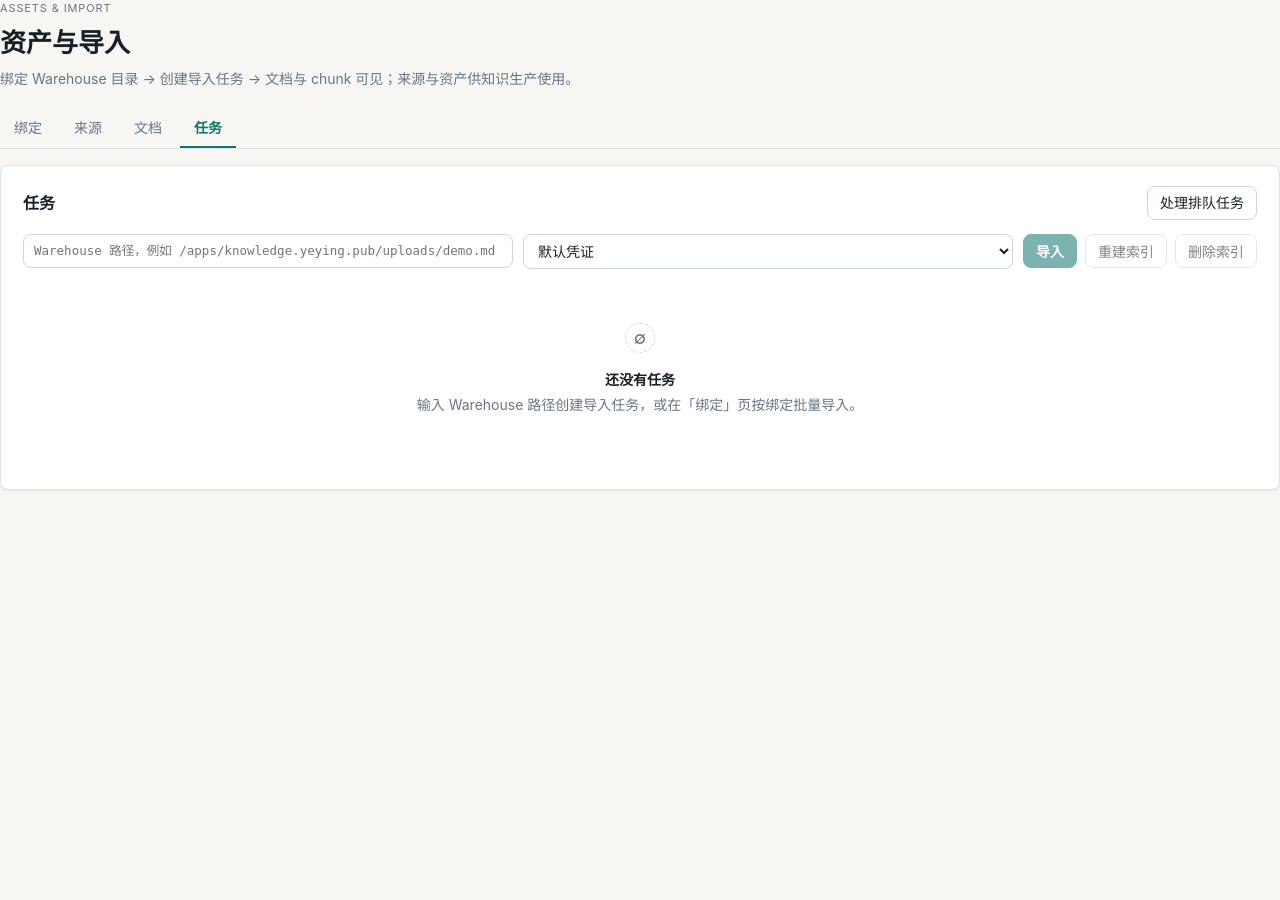
Test: assets workbench › creates an import task from a source path with the chosen credential
Type "/apps/x/uploads/demo.md" into the field named "源路径". click: (268, 251)
box: [23, 234, 513, 268]
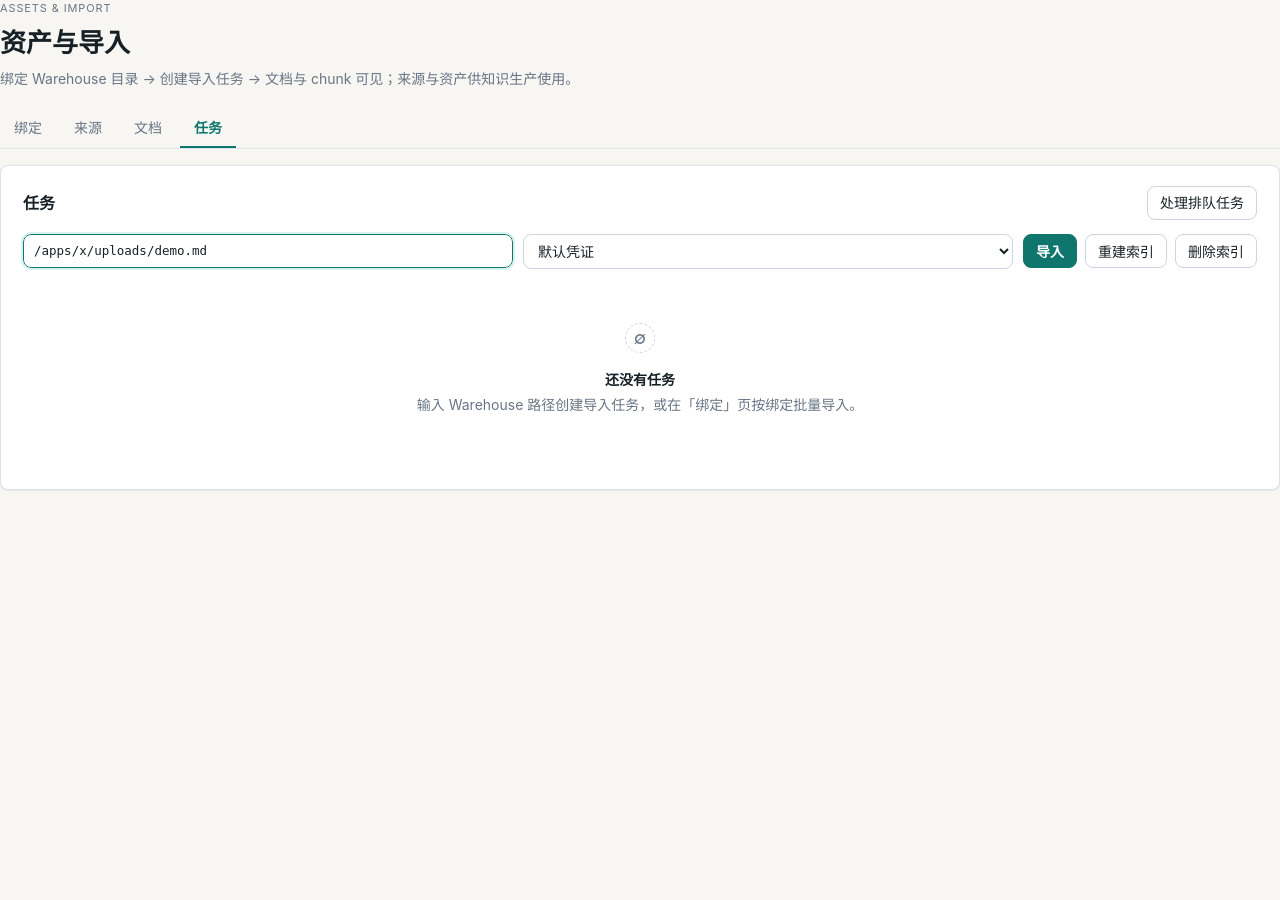
Select "读凭证 · AKREAD" in the dropdown named "凭证". click: (768, 251)
box: [523, 234, 1013, 268]
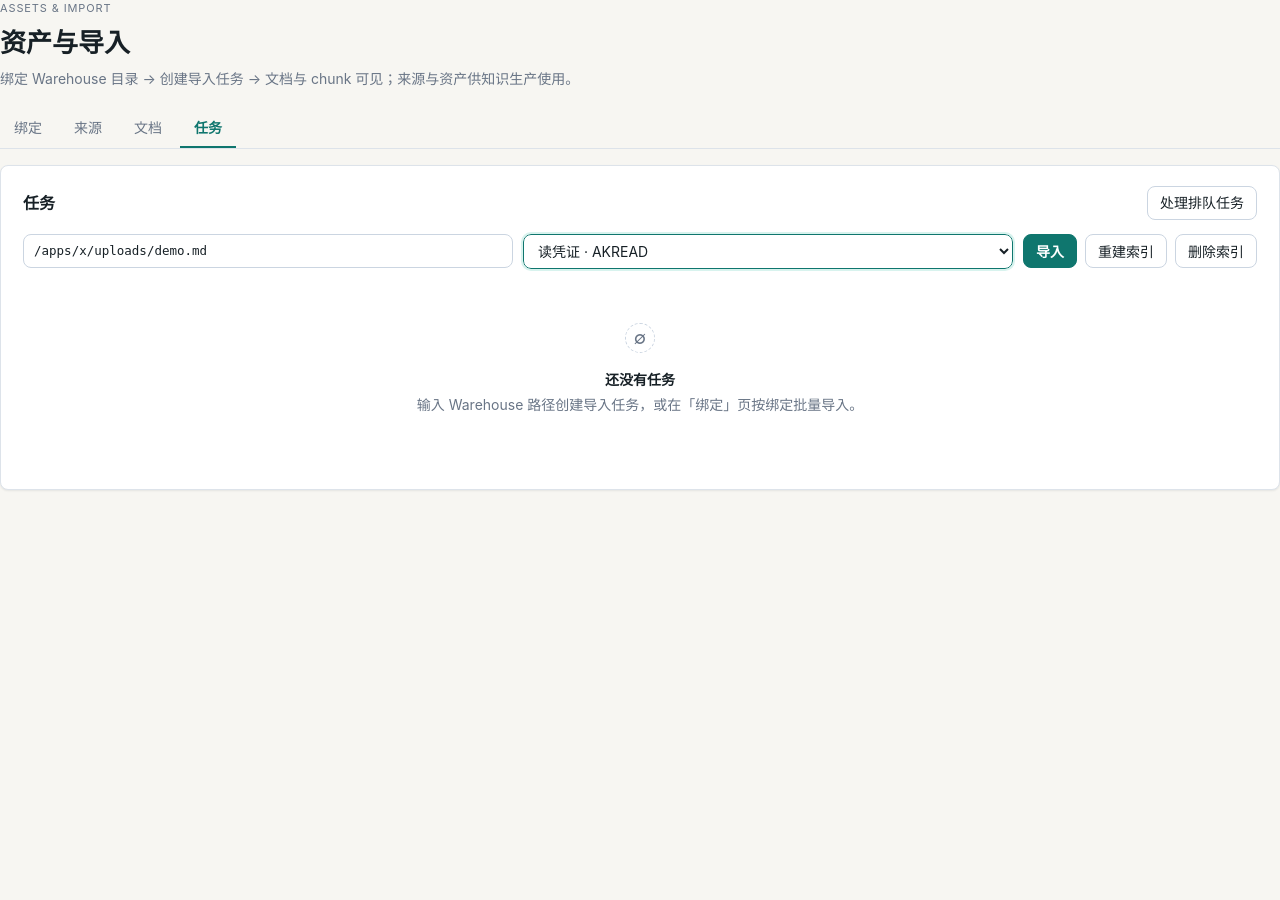
Click the button "导入". click: (1050, 251)
box: [1023, 234, 1077, 268]
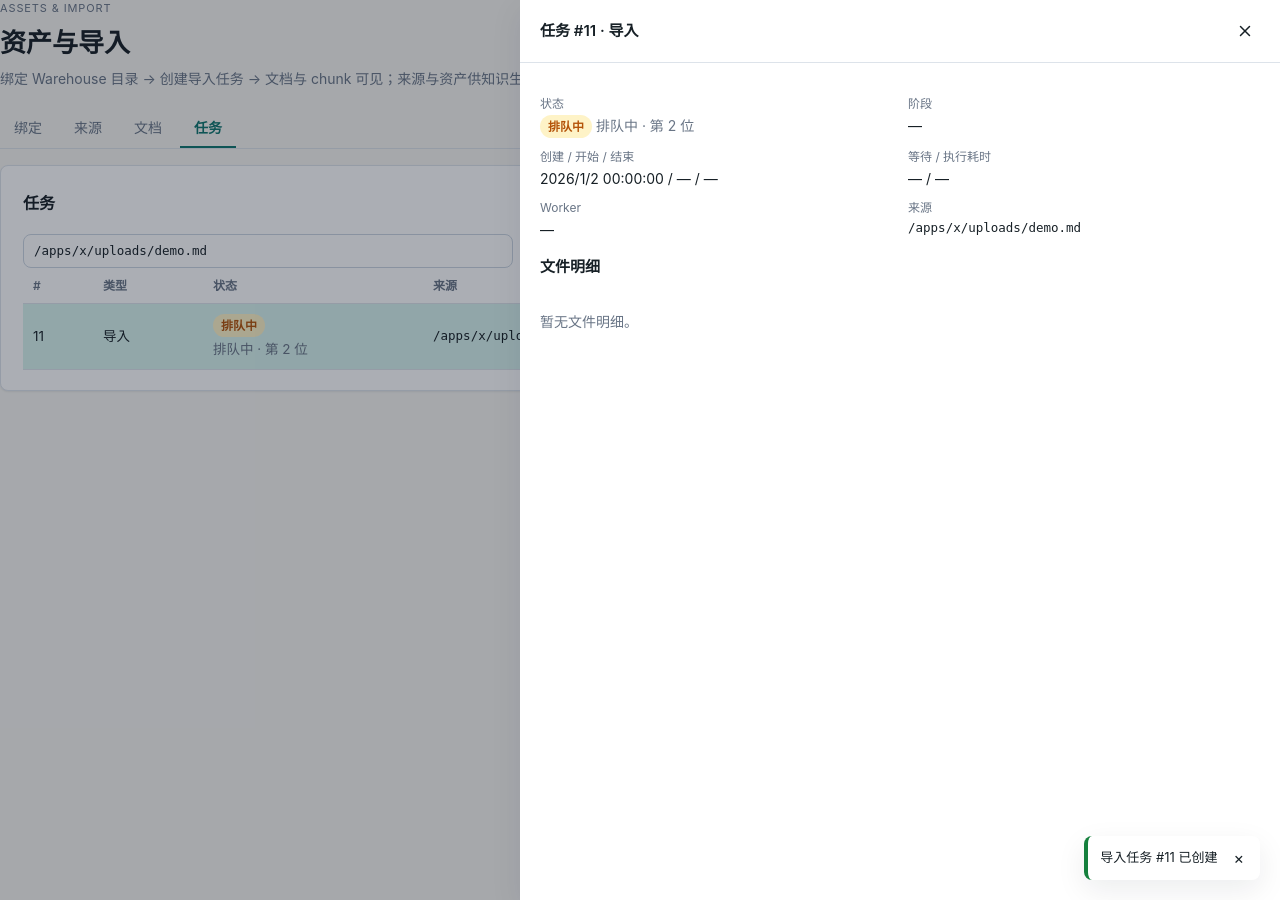
Now the dialog shows "任务 #11", box [540, 21, 638, 40]
